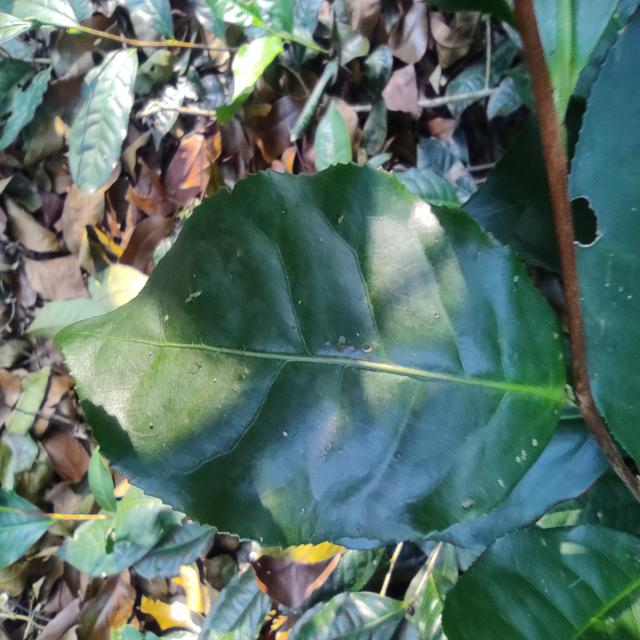Category D(7+ days, Not for Tea): (37, 153, 583, 553)
